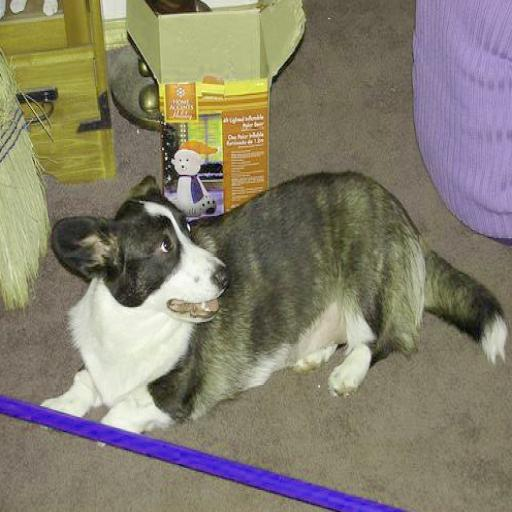dog_face: (48, 173, 225, 347)
